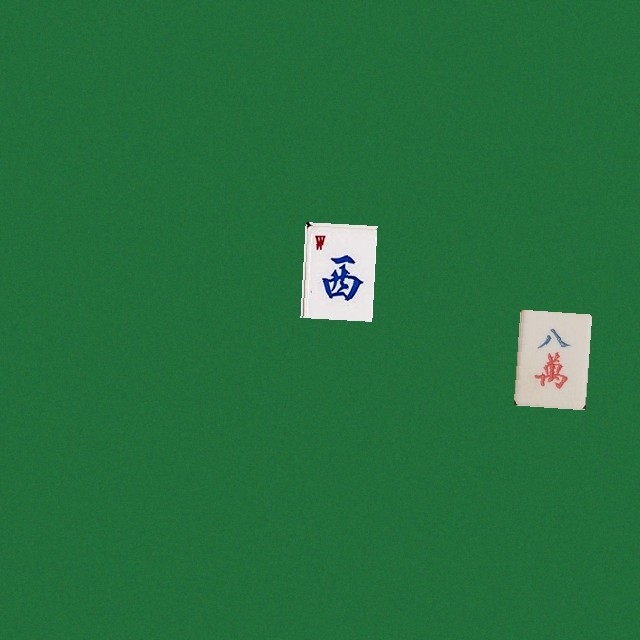tile: (513, 309, 585, 405), (300, 222, 372, 318)
